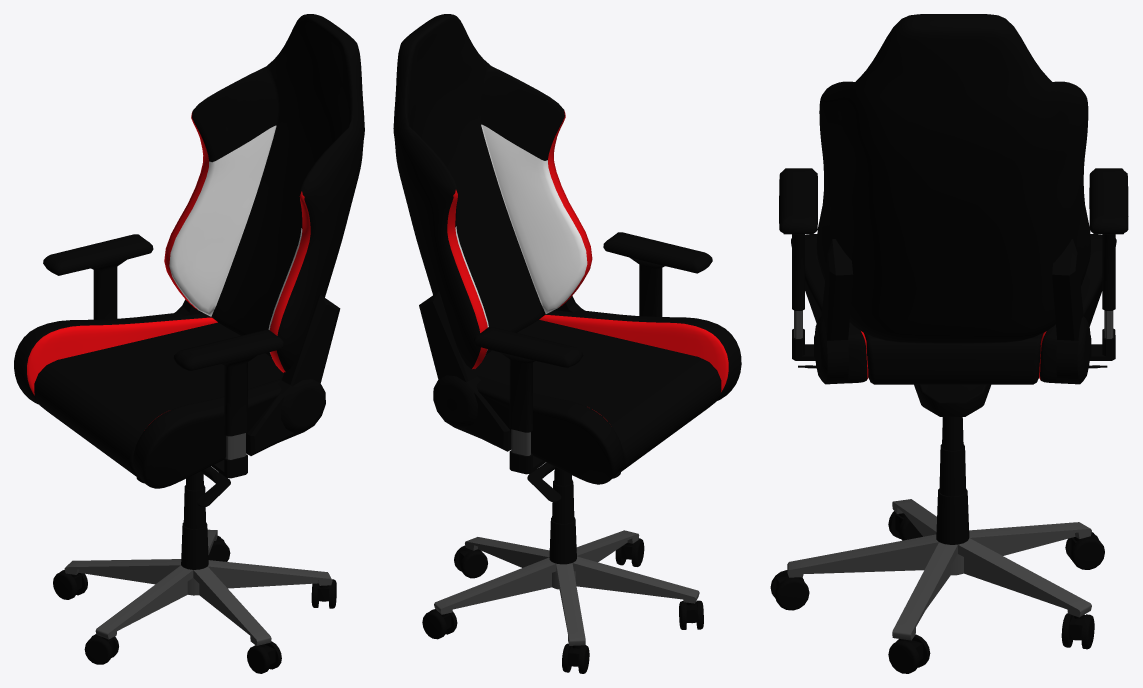
File: Gaming Chair.glb
The picture shows the model from 3 angles, left to right: view 1: azimuth 30°, elevation 25°; view 2: azimuth 150°, elevation 25°; view 3: azimuth 270°, elevation 25°; orthographic projection. The views are drawn at different scales.
Visible parts, largest first — view 1: Chair.002; view 2: Chair.002; view 3: Chair.002.
Boxes of the visible parts, x1,y1,x2,y2 form: Chair.002: (14, 14, 364, 673); Chair.002: (393, 14, 741, 673); Chair.002: (770, 14, 1128, 673).
Size of the model in its own units: 2.69 by 5.26 by 2.56.
